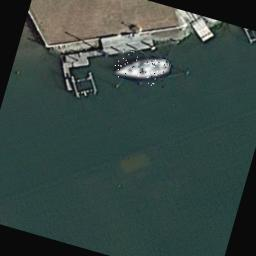boat: (112, 46, 172, 90)
